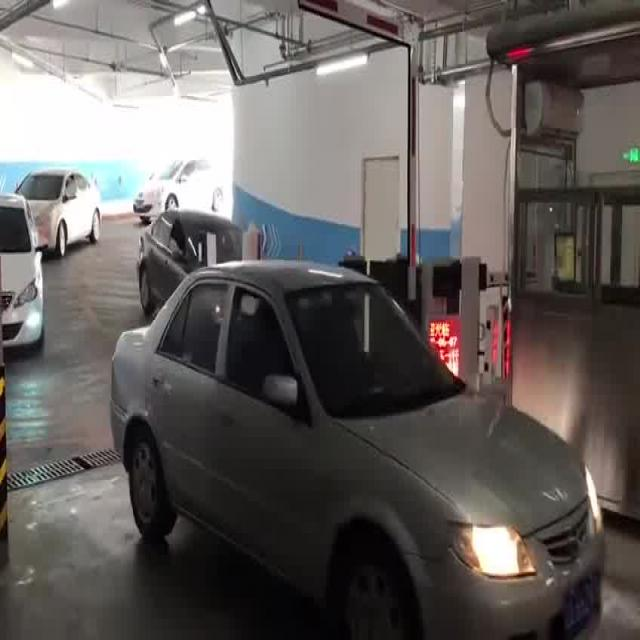CarIn: (91, 252, 617, 639), (133, 190, 267, 314), (10, 163, 114, 264), (1, 186, 51, 370), (126, 143, 231, 216)
GateClosed: (434, 239, 558, 325)
GateOpened: (287, 1, 425, 316)
